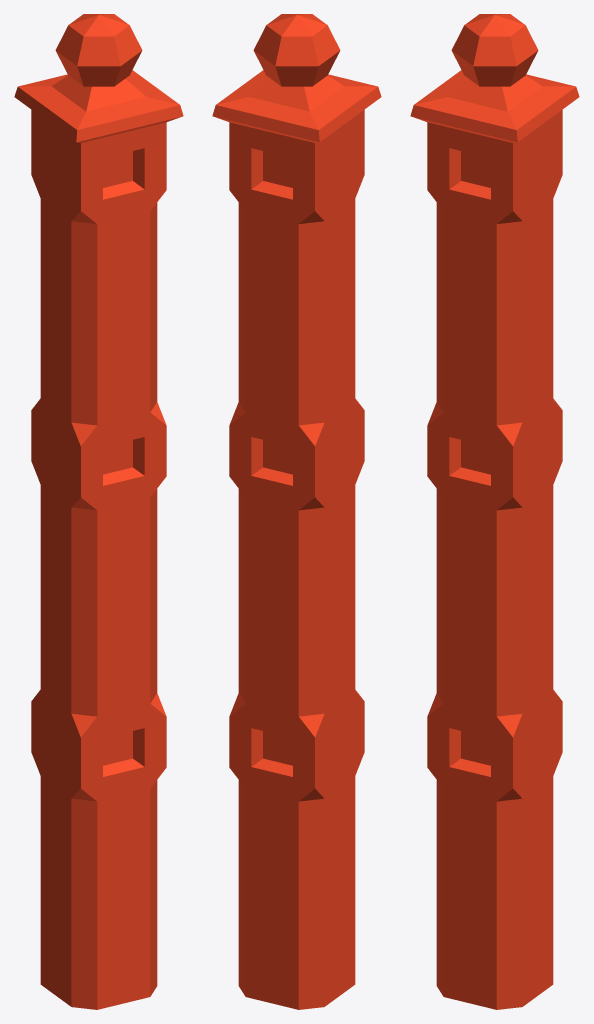
File: SM_Fence_Small_Pillar_City.fbx
3 renders of one model, left to right at view 1: azimuth 30°, elevation 25°; view 2: azimuth 150°, elevation 25°; view 3: azimuth 330°, elevation 25°, orthographic.
Visible parts, largest first — view 1: SM_Fence_Small_Pillar_City; view 2: SM_Fence_Small_Pillar_City; view 3: SM_Fence_Small_Pillar_City.
Part boxes in pixels (x1,y1,x2,y2): SM_Fence_Small_Pillar_City: [14, 14, 183, 1009]; SM_Fence_Small_Pillar_City: [212, 14, 381, 1009]; SM_Fence_Small_Pillar_City: [410, 14, 579, 1009].
Size of the model in its own units: 0.1319 by 1.14 by 0.1319.
